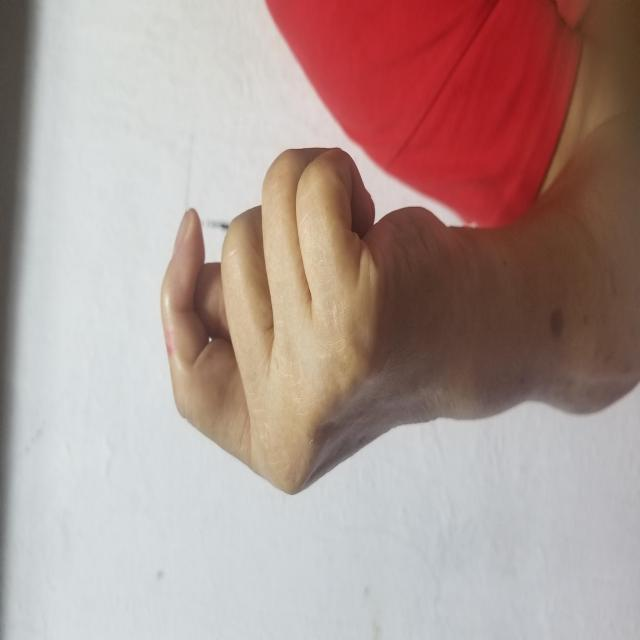T: (142, 160, 496, 440)
